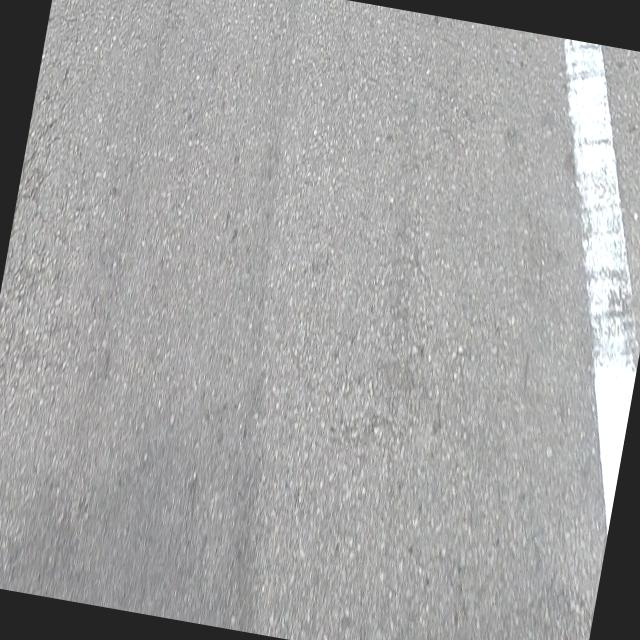Retak-Buaya: (0, 124, 84, 387)
